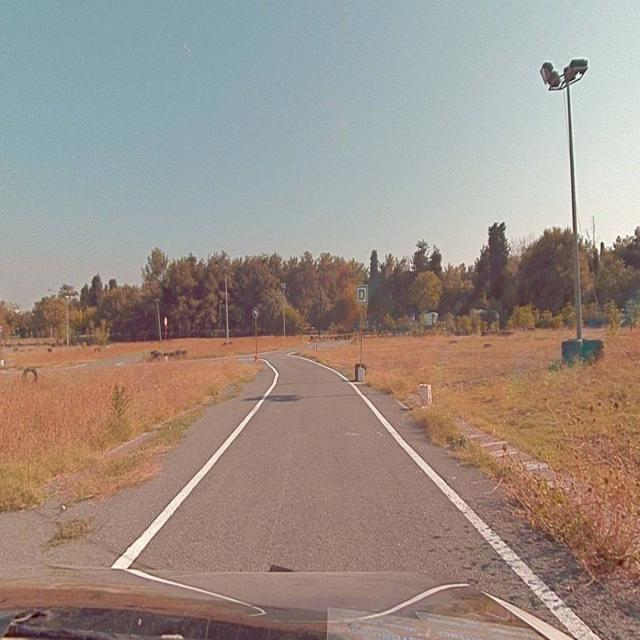durak: (356, 285, 368, 303)
sol: (252, 308, 258, 318)
